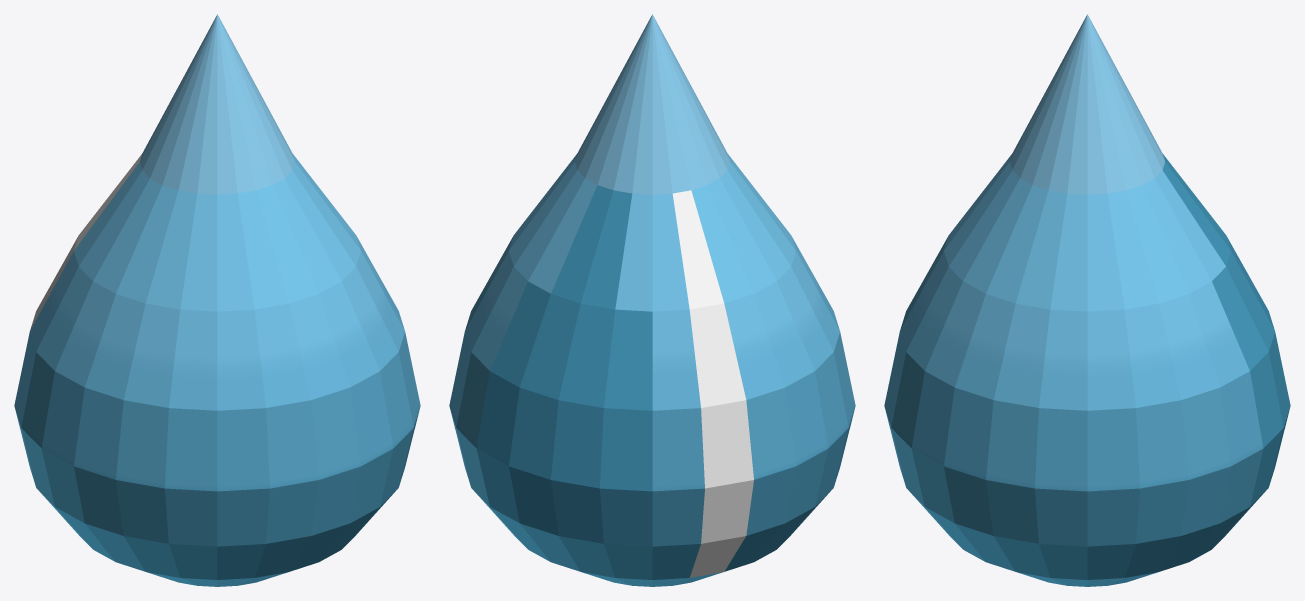
File: Gota2.fbx
The picture shows the model from 3 angles, left to right: view 1: azimuth 30°, elevation 25°; view 2: azimuth 150°, elevation 25°; view 3: azimuth 270°, elevation 25°; orthographic projection.
Parts seen in each view (by area): view 1: Sphere.001; view 2: Sphere.001; view 3: Sphere.001.
Part boxes in pixels (x1=…): Sphere.001: x1=14, y1=14, x2=420, y2=586; Sphere.001: x1=449, y1=14, x2=855, y2=586; Sphere.001: x1=884, y1=14, x2=1290, y2=586.
Size of the model in its own units: 100 by 150 by 100.
1 material, 1 textured.
